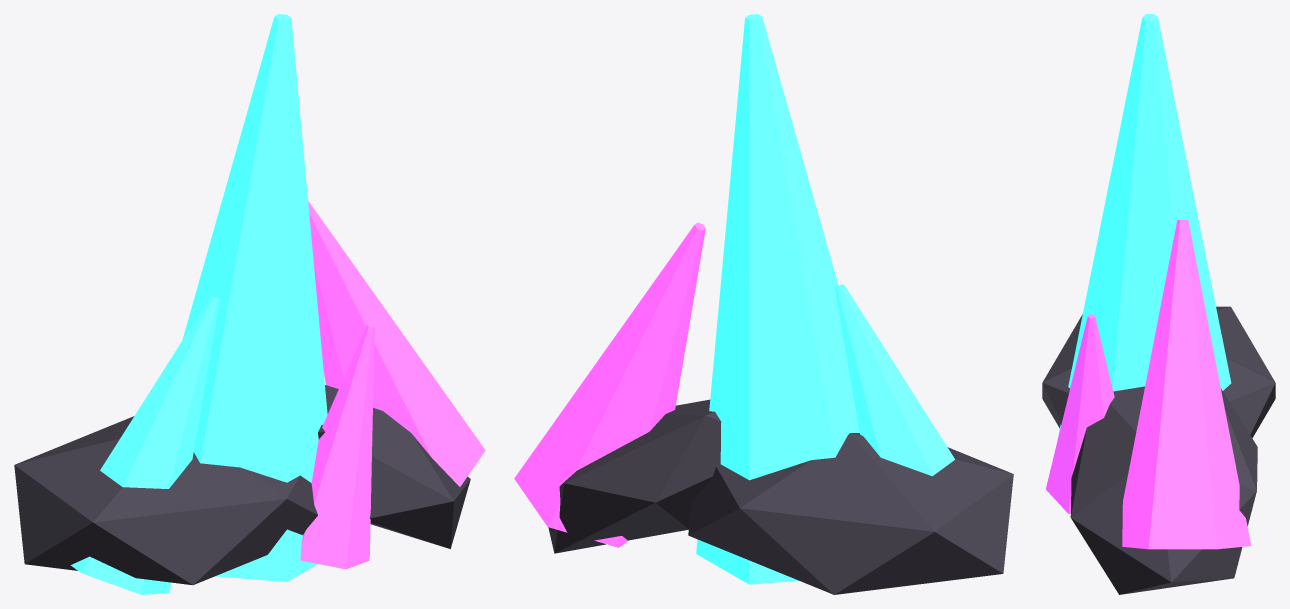
Rendered from crystal_cluster_large.glb.
3 views of the same model, side by side, from view 1: azimuth 30°, elevation 25°; view 2: azimuth 150°, elevation 25°; view 3: azimuth 270°, elevation 25° (orthographic). The views are drawn at different scales.
Parts seen in each view (by area): view 1: GEO_cyan, GEO_stonedark, GEO_violet; view 2: GEO_cyan, GEO_stonedark, GEO_violet; view 3: GEO_violet, GEO_cyan, GEO_stonedark.
Part boxes in pixels (x1,y1,x2,y2): GEO_cyan: (70, 14, 327, 594); GEO_stonedark: (14, 385, 470, 585); GEO_violet: (300, 201, 485, 569); GEO_cyan: (696, 14, 954, 584); GEO_stonedark: (548, 399, 1013, 594); GEO_violet: (514, 222, 705, 547); GEO_violet: (1046, 220, 1251, 549); GEO_cyan: (1057, 14, 1231, 440); GEO_stonedark: (1042, 306, 1275, 594).
Size of the model in its own units: 2.73 by 3.19 by 1.32.
